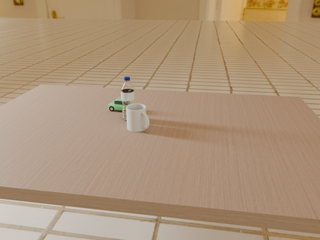bottle: (121, 77, 134, 121)
cup: (126, 104, 149, 132)
toy_car: (109, 97, 136, 111)
